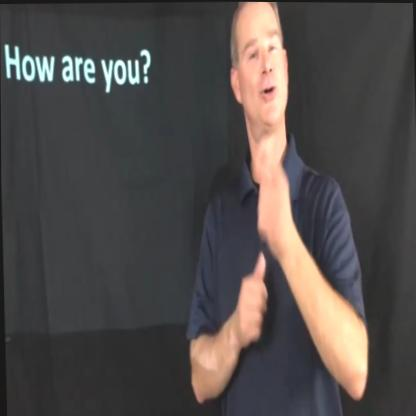HowAreYou: (225, 138, 293, 369)
